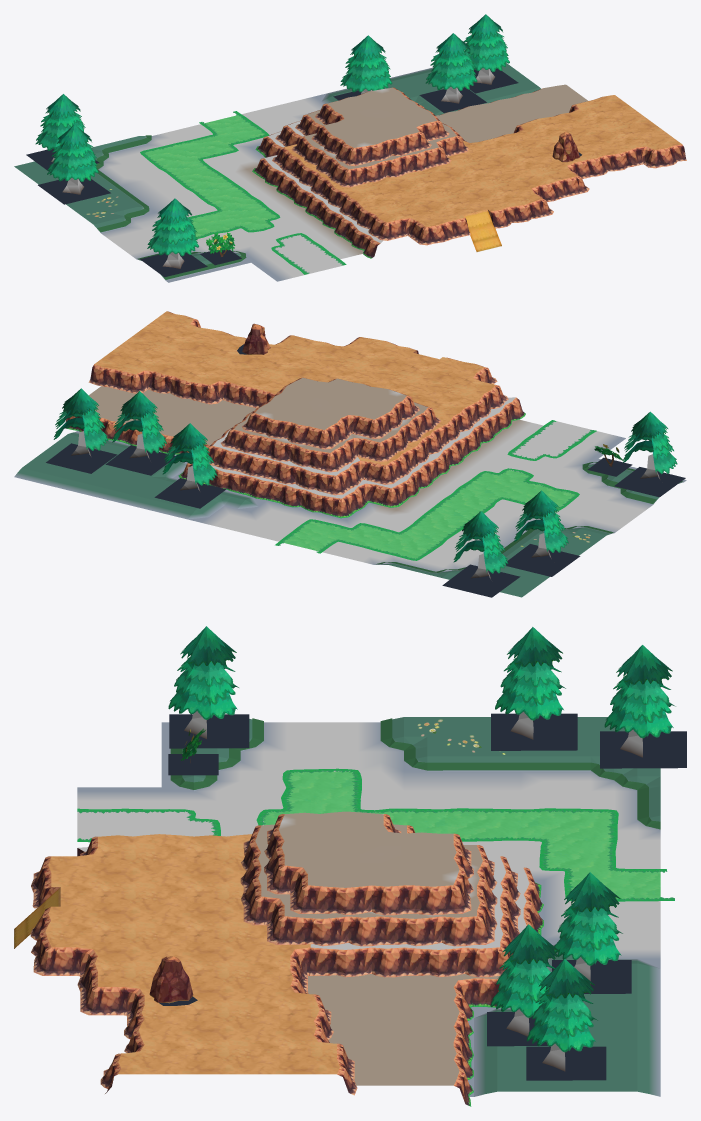
3 renders of one model, top to bottom at view 1: azimuth 30°, elevation 25°; view 2: azimuth 150°, elevation 25°; view 3: azimuth 270°, elevation 25°, orthographic. The views are drawn at different scales.
Parts seen in each view (by area): view 1: _3_0_node, _1_0_node, _7_0_node, _0_0_node, _2_0_node, _5_0_node, _11_0_node, _10_0_node, _9_0_node, _4_0_node, _6_0_node, _8_0_node; view 2: _3_0_node, _1_0_node, _7_0_node, _2_0_node, _0_0_node, _11_0_node, _5_0_node, _10_0_node, _4_0_node, _6_0_node, _9_0_node, _8_0_node; view 3: _3_0_node, _7_0_node, _1_0_node, _2_0_node, _0_0_node, _11_0_node, _5_0_node, _10_0_node, _9_0_node, _4_0_node, _6_0_node, _8_0_node.
Part boxes in pixels (left/top/right/bottom): _3_0_node: left=14, top=63, right=540, bottom=282; _1_0_node: left=252, top=87, right=686, bottom=258; _7_0_node: left=284, top=95, right=681, bottom=226; _0_0_node: left=35, top=14, right=509, bottom=256; _2_0_node: left=264, top=84, right=587, bottom=243; _5_0_node: left=144, top=115, right=276, bottom=236; _11_0_node: left=26, top=68, right=581, bottom=277; _10_0_node: left=140, top=111, right=346, bottom=274; _9_0_node: left=96, top=135, right=246, bottom=279; _4_0_node: left=275, top=235, right=343, bottom=274; _6_0_node: left=51, top=68, right=494, bottom=268; _8_0_node: left=552, top=132, right=579, bottom=162; _3_0_node: left=14, top=419, right=686, bottom=597; _1_0_node: left=65, top=311, right=525, bottom=518; _7_0_node: left=94, top=311, right=495, bottom=465; _2_0_node: left=89, top=378, right=515, bottom=498; _0_0_node: left=53, top=388, right=677, bottom=573; _11_0_node: left=46, top=344, right=685, bottom=597; _5_0_node: left=283, top=470, right=575, bottom=558; _10_0_node: left=275, top=420, right=596, bottom=560; _4_0_node: left=512, top=421, right=591, bottom=459; _6_0_node: left=71, top=431, right=660, bottom=578; _9_0_node: left=376, top=462, right=682, bottom=572; _8_0_node: left=242, top=323, right=270, bottom=354; _3_0_node: left=77, top=717, right=660, bottom=1096; _7_0_node: left=45, top=834, right=339, bottom=1074; _1_0_node: left=14, top=814, right=543, bottom=1106; _2_0_node: left=78, top=811, right=529, bottom=1085; _0_0_node: left=168, top=626, right=675, bottom=1052; _11_0_node: left=159, top=713, right=686, bottom=1080; _5_0_node: left=264, top=771, right=660, bottom=898; _10_0_node: left=77, top=768, right=674, bottom=901; _9_0_node: left=170, top=718, right=660, bottom=829; _4_0_node: left=77, top=811, right=214, bottom=839; _6_0_node: left=184, top=711, right=642, bottom=1071; _8_0_node: left=149, top=956, right=193, bottom=1003.
Bounding box in the file's own units: 728 × 519 × 95.58.
